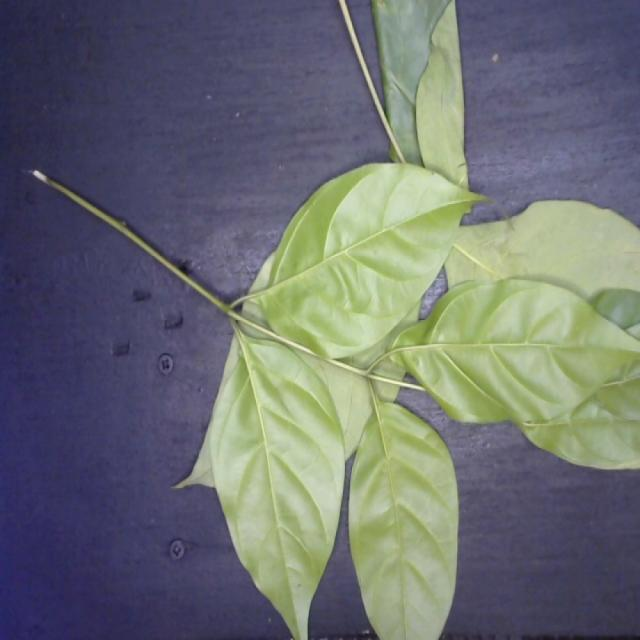biodegradable: (168, 155, 640, 639)
